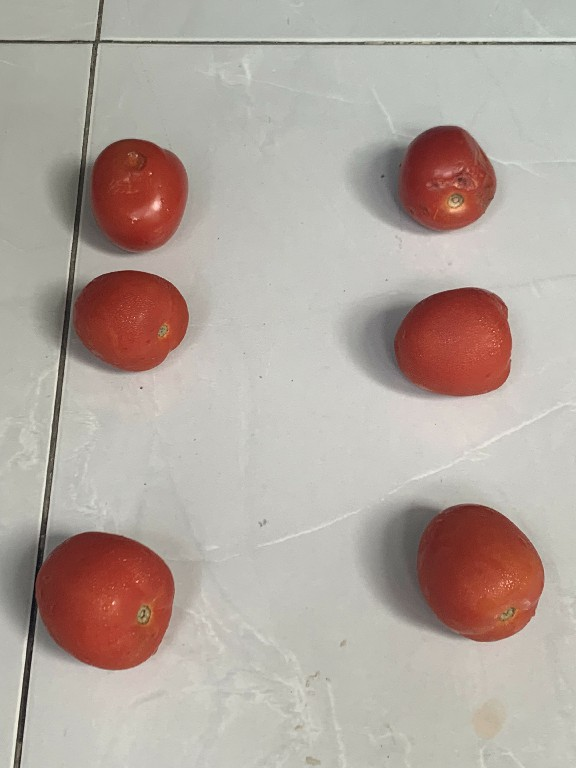NG: (86, 129, 185, 257), (394, 118, 495, 235)
OK: (26, 529, 177, 669), (409, 498, 543, 646), (65, 265, 193, 383), (388, 285, 513, 396)
